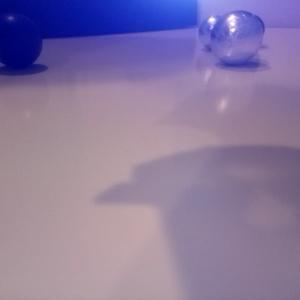alive_ball: (211, 11, 264, 65), (198, 16, 230, 50)
dead_ball: (1, 10, 43, 68)
